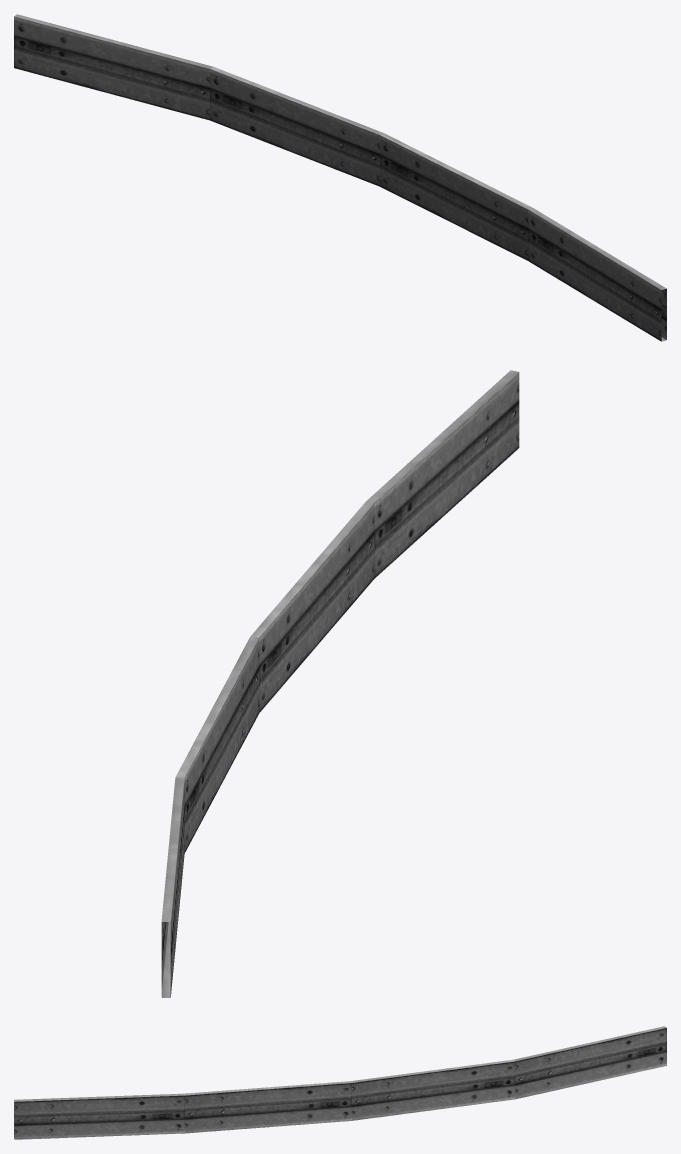
The model's file is 30guard_vs3.FBX.
The picture shows the model from 3 angles, top to bottom: view 1: azimuth 30°, elevation 25°; view 2: azimuth 150°, elevation 25°; view 3: azimuth 270°, elevation 25°; orthographic projection. The views are drawn at different scales.
Visible parts, largest first — view 1: Object014; view 2: Object014; view 3: Object014.
Boxes of the visible parts, bbox=[...] form: Object014: bbox=[14, 14, 666, 341]; Object014: bbox=[161, 370, 519, 997]; Object014: bbox=[14, 1026, 666, 1139].
Size of the model in its own units: 412 by 96.2 by 1500.
